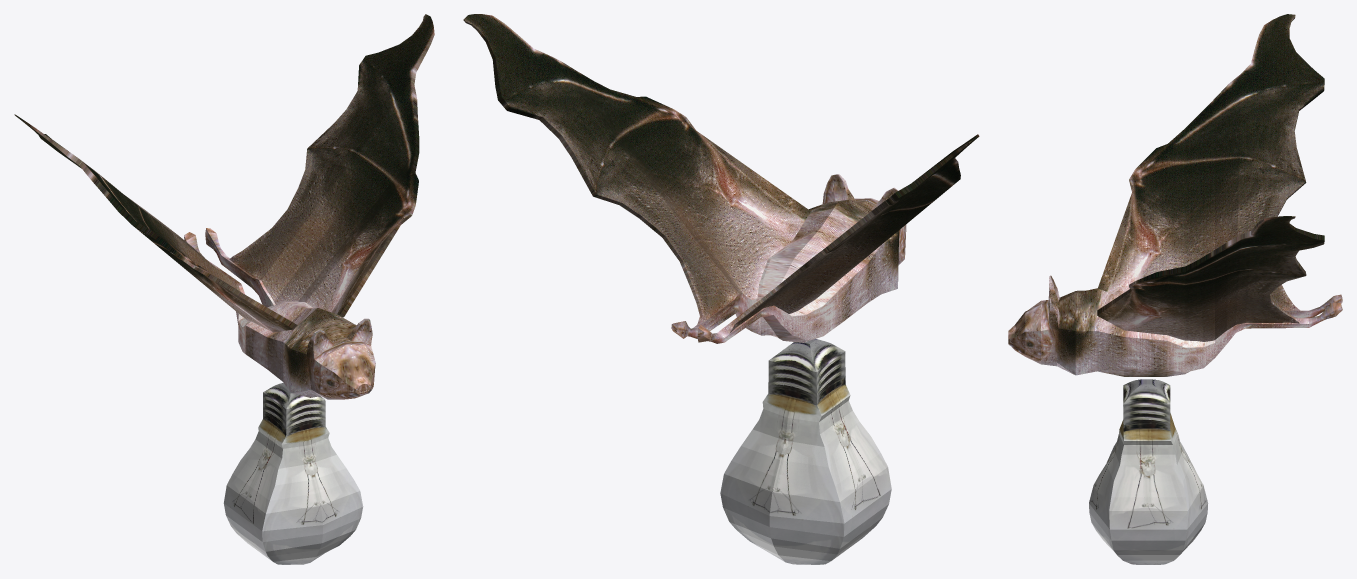
The model's file is bat1.glb.
3 views of the same model, side by side, from view 1: azimuth 30°, elevation 25°; view 2: azimuth 150°, elevation 25°; view 3: azimuth 270°, elevation 25° (orthographic). The views are drawn at different scales.
Visible parts, largest first — view 1: ps1_bat_leftWing.001, ps1_lightBulb.001, ps1_bat_core.001, ps1_bat_rightWing.001; view 2: ps1_bat_leftWing.001, ps1_lightBulb.001, ps1_bat_core.001, ps1_bat_rightWing.001; view 3: ps1_bat_rightWing.001, ps1_lightBulb.001, ps1_bat_leftWing.001, ps1_bat_core.001.
Part boxes in pixels (<box>): ps1_bat_leftWing.001: <box>229,14,434,317</box>; ps1_lightBulb.001: <box>223,383,363,564</box>; ps1_bat_core.001: <box>184,228,375,399</box>; ps1_bat_rightWing.001: <box>14,114,297,332</box>; ps1_bat_leftWing.001: <box>463,14,811,325</box>; ps1_lightBulb.001: <box>720,339,891,564</box>; ps1_bat_core.001: <box>671,174,906,343</box>; ps1_bat_rightWing.001: <box>727,134,979,333</box>; ps1_bat_rightWing.001: <box>1097,14,1324,310</box>; ps1_lightBulb.001: <box>1089,379,1208,564</box>; ps1_bat_leftWing.001: <box>1097,216,1324,341</box>; ps1_bat_core.001: <box>1008,275,1342,376</box>.
Bounding box in the file's own units: 0.7181 × 0.7361 × 0.5018.
2 materials, 2 textured.
